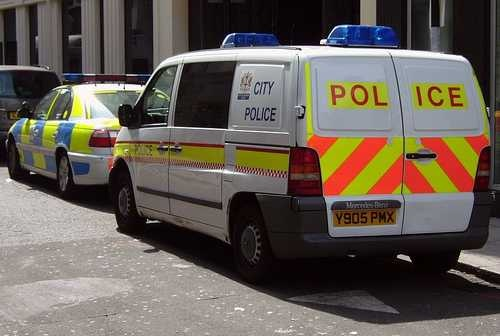Police Car: (17, 69, 164, 200)
Police Van: (128, 29, 487, 277)
